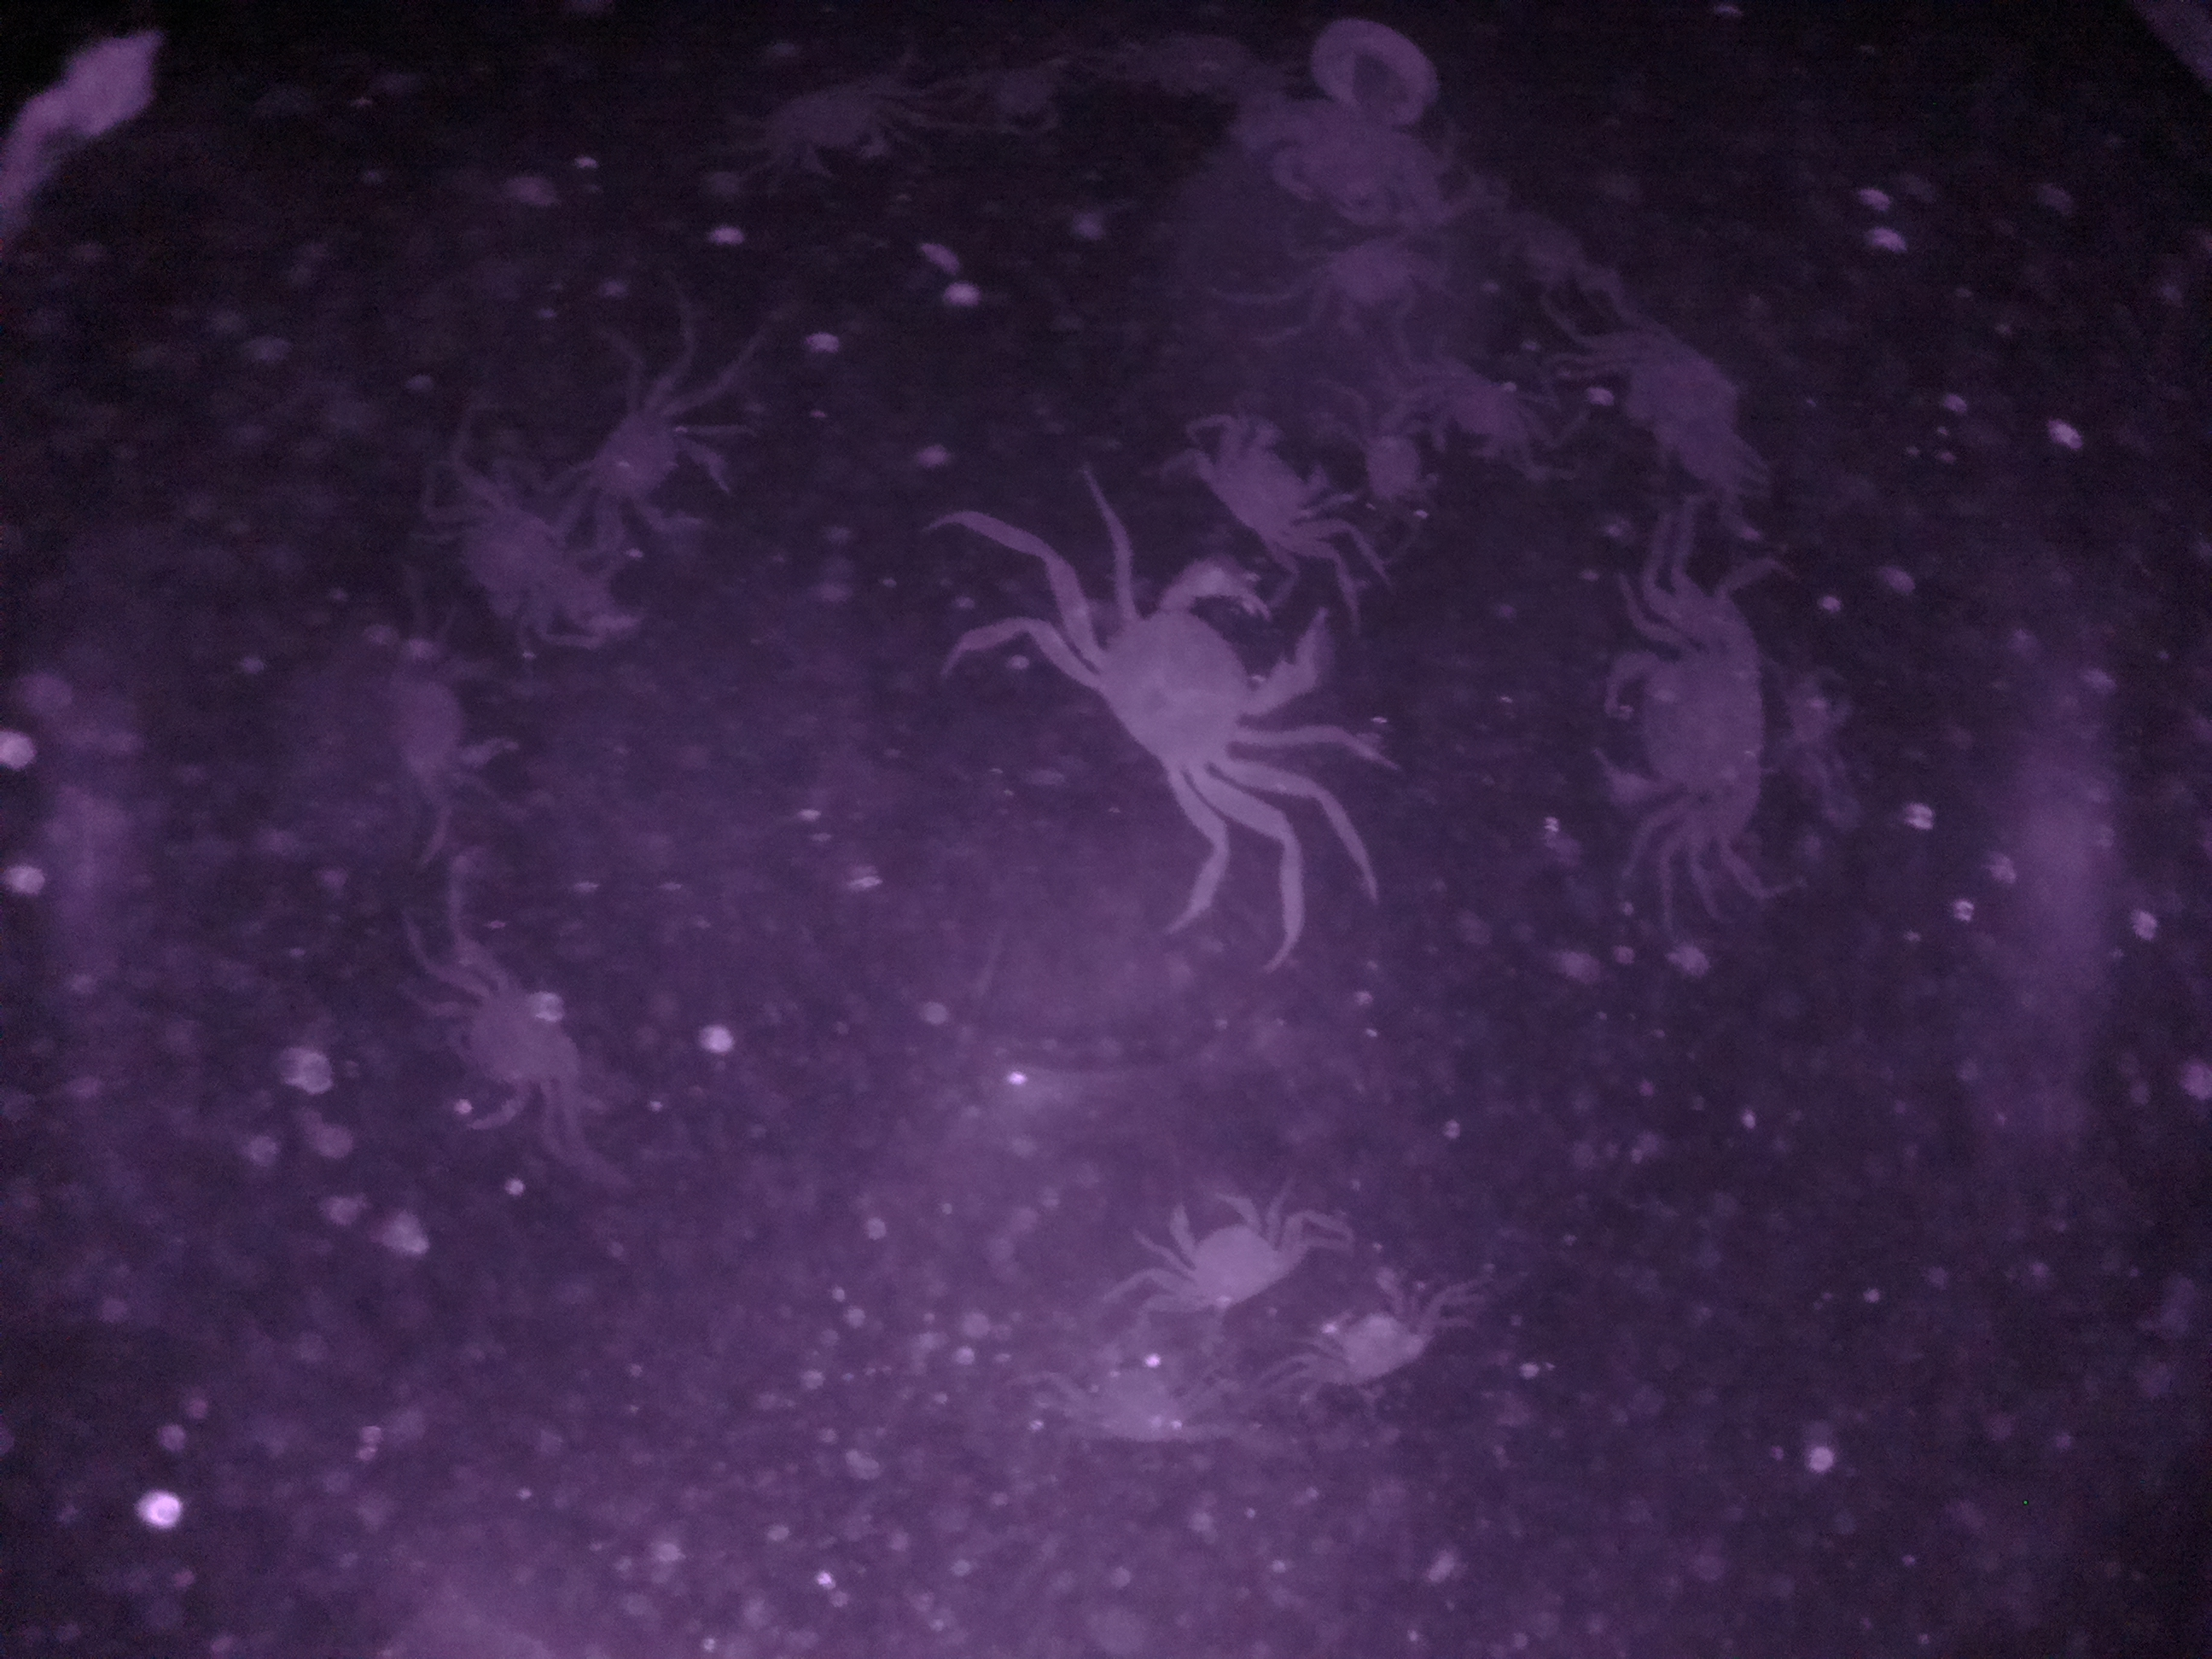Crab: (1036, 552, 1339, 828), (1580, 575, 1784, 884), (556, 366, 754, 559), (416, 927, 592, 1145), (1123, 1178, 1322, 1326), (1278, 1263, 1470, 1415), (1186, 406, 1360, 559), (742, 63, 948, 192)
